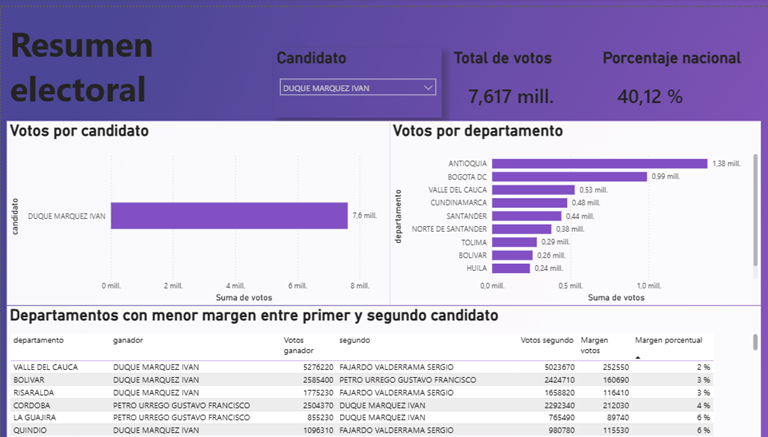

The page's visual inventory and layout, read from the dashboard file:
{"tool":"powerbi","page":{"name":"Resumen electoral","canvas":[1280,720],"ordinal":0},"visuals":[{"type":"cardVisual","title":"Total de votos","fields":{"Data":["Sum(resultados_candidatos.votos)"]},"box":[749.2,68.6,236,115.1],"z":0},{"type":"slicer","title":"Candidato","fields":{"Values":["DimCandidato.candidato"]},"box":[455,68.3,280.2,115.1],"z":1000},{"type":"clusteredBarChart","title":"Votos por candidato","fields":{"Category":["resultados_candidatos.candidato"],"Y":["Sum(resultados_candidatos.votos)"]},"box":[9.6,190.7,638.4,307],"z":2000},{"type":"clusteredBarChart","title":"Votos por departamento","fields":{"Category":["participacion_departamental_candidato.departamento"],"Y":["Sum(participacion_departamental_candidato.votos)"]},"box":[647.7,190.7,618.6,307],"z":3000},{"type":"cardVisual","title":"Porcentaje nacional","fields":{"Data":["Sum(resultados_candidatos.porcentaje)"]},"box":[999,68.6,267.4,115.1],"z":4000},{"type":"tableEx","title":"Departamentos con menor margen entre primer y segundo candidato","fields":{"Values":["margenes_departamentales.departamento","margenes_departamentales.ganador","Sum(margenes_departamentales.votos_ganador)","margenes_departamentales.segundo","Sum(margenes_departamentales.votos_segundo)","Sum(margenes_departamentales.margen_votos)","Sum(margenes_departamentales.margen_porcentual)"]},"box":[9.6,498.1,1257,222.3],"z":5000},{"type":"textbox","box":[10,16,298,168],"z":6000}]}

Visuals, with their boxes in screenshot pixels (x1, y1, x2, y2), scaled from the page's 1280x720 canvas onto the 768x437 screenshot:
"Total de votos" cardVisual: x1=450 y1=42 x2=591 y2=111
"Candidato" slicer: x1=273 y1=41 x2=441 y2=111
"Votos por candidato" clusteredBarChart: x1=6 y1=116 x2=389 y2=302
"Votos por departamento" clusteredBarChart: x1=389 y1=116 x2=760 y2=302
"Porcentaje nacional" cardVisual: x1=599 y1=42 x2=760 y2=111
"Departamentos con menor margen entre primer y segundo candidato" tableEx: x1=6 y1=302 x2=760 y2=436
textbox: x1=6 y1=10 x2=185 y2=112
